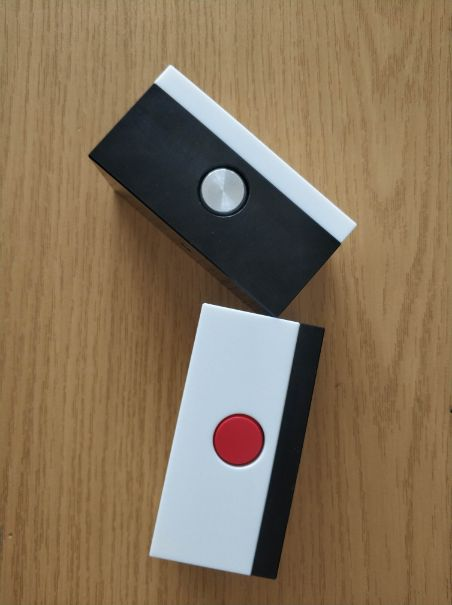black+white+red: (146, 301, 331, 583)
white+black+silver: (86, 61, 364, 320)
